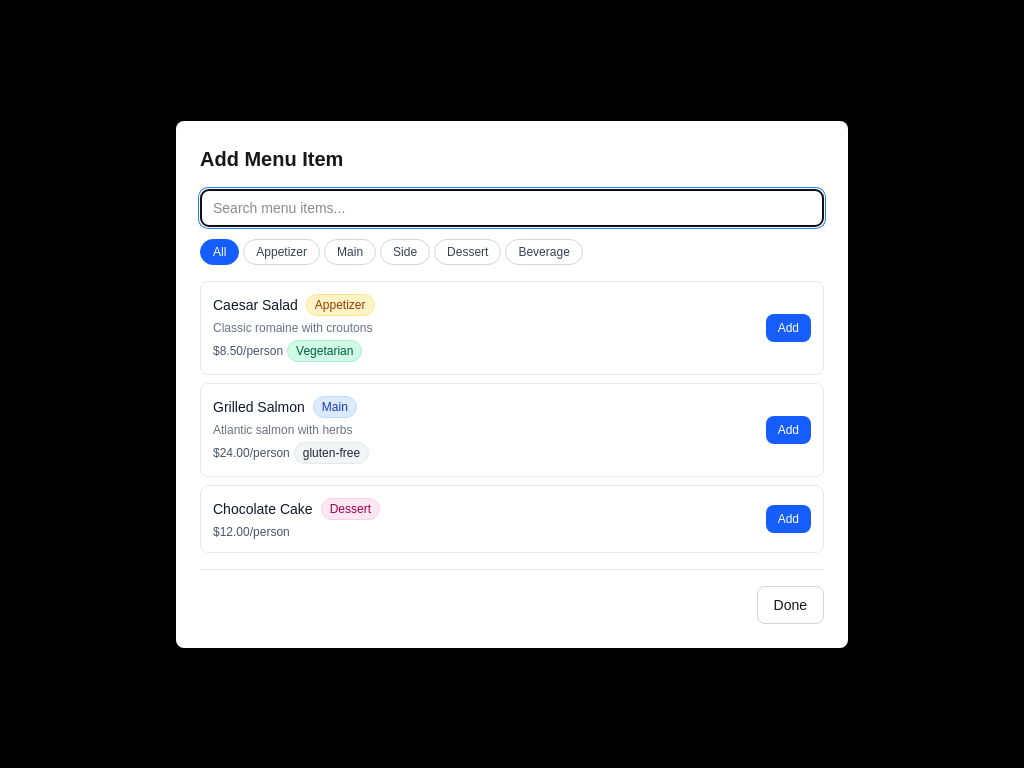
Test: AddMenuItemDialog › filters items by search text
Type "salmon" into the field with placeholder "Search menu items...".
click(512, 208); type("salmon")  # box x1=200 y1=188 x2=824 y2=226
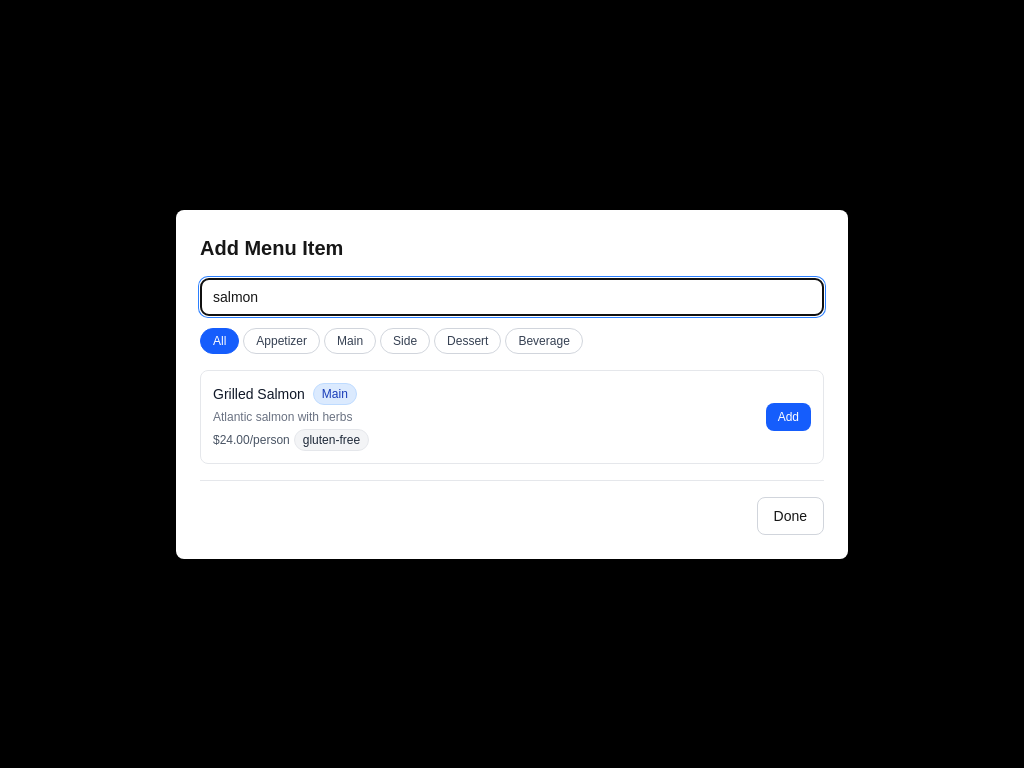
Check: the text "Grilled Salmon" is shown, box x1=213 y1=384 x2=305 y2=404
Check: the text "Caesar Salad" is gone
Check: the text "Chocolate Cake" is gone
